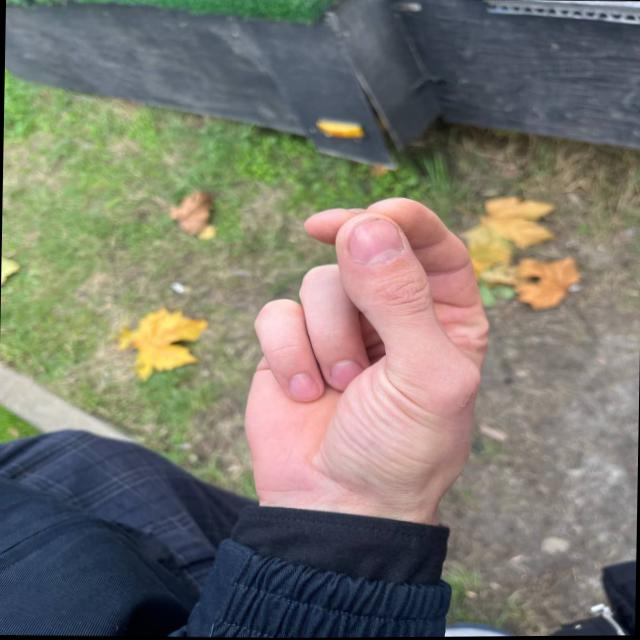ch: (177, 124, 521, 492)
